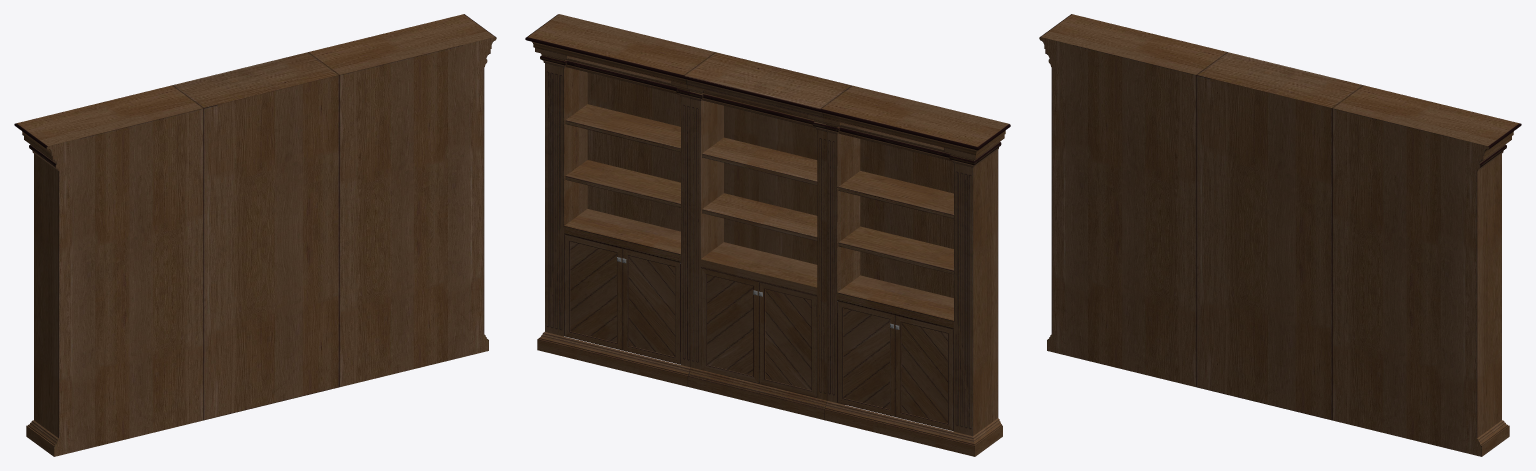
The picture shows the model from 3 angles, left to right: view 1: azimuth 30°, elevation 25°; view 2: azimuth 150°, elevation 25°; view 3: azimuth 330°, elevation 25°; orthographic projection.
Visible parts, largest first — view 1: re_shelf_side_R_0, re_shelf_side_L_2, re_shelf_mid_1; view 2: re_shelf_side_R_0, re_shelf_side_L_2, re_shelf_mid_1; view 3: re_shelf_side_L_2, re_shelf_side_R_0, re_shelf_mid_1.
Boxes of the visible parts, x1,y1,x2,y2 form: re_shelf_side_R_0: (14, 85, 203, 456); re_shelf_side_L_2: (308, 14, 496, 387); re_shelf_mid_1: (172, 52, 339, 420); re_shelf_side_R_0: (820, 85, 1010, 456); re_shelf_side_L_2: (525, 14, 715, 386); re_shelf_mid_1: (683, 52, 851, 419); re_shelf_side_L_2: (1332, 85, 1521, 456); re_shelf_side_R_0: (1039, 14, 1227, 387); re_shelf_mid_1: (1196, 52, 1363, 420).
Size of the model in its own units: 3.32 by 2.2 by 0.4108.
Materials: 2 (2 with a texture image).
